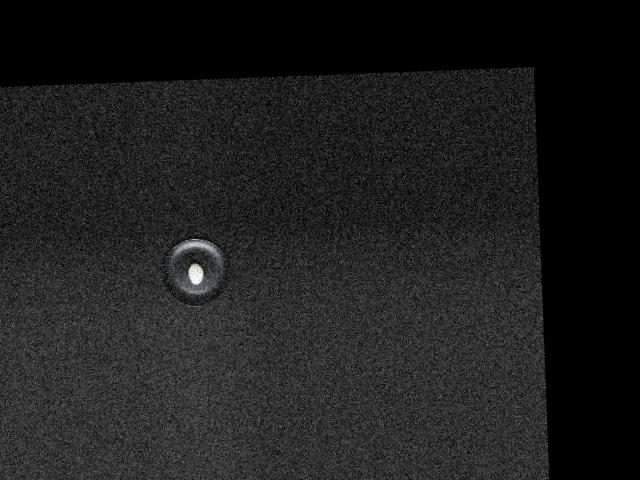egg: (187, 262, 203, 284)
